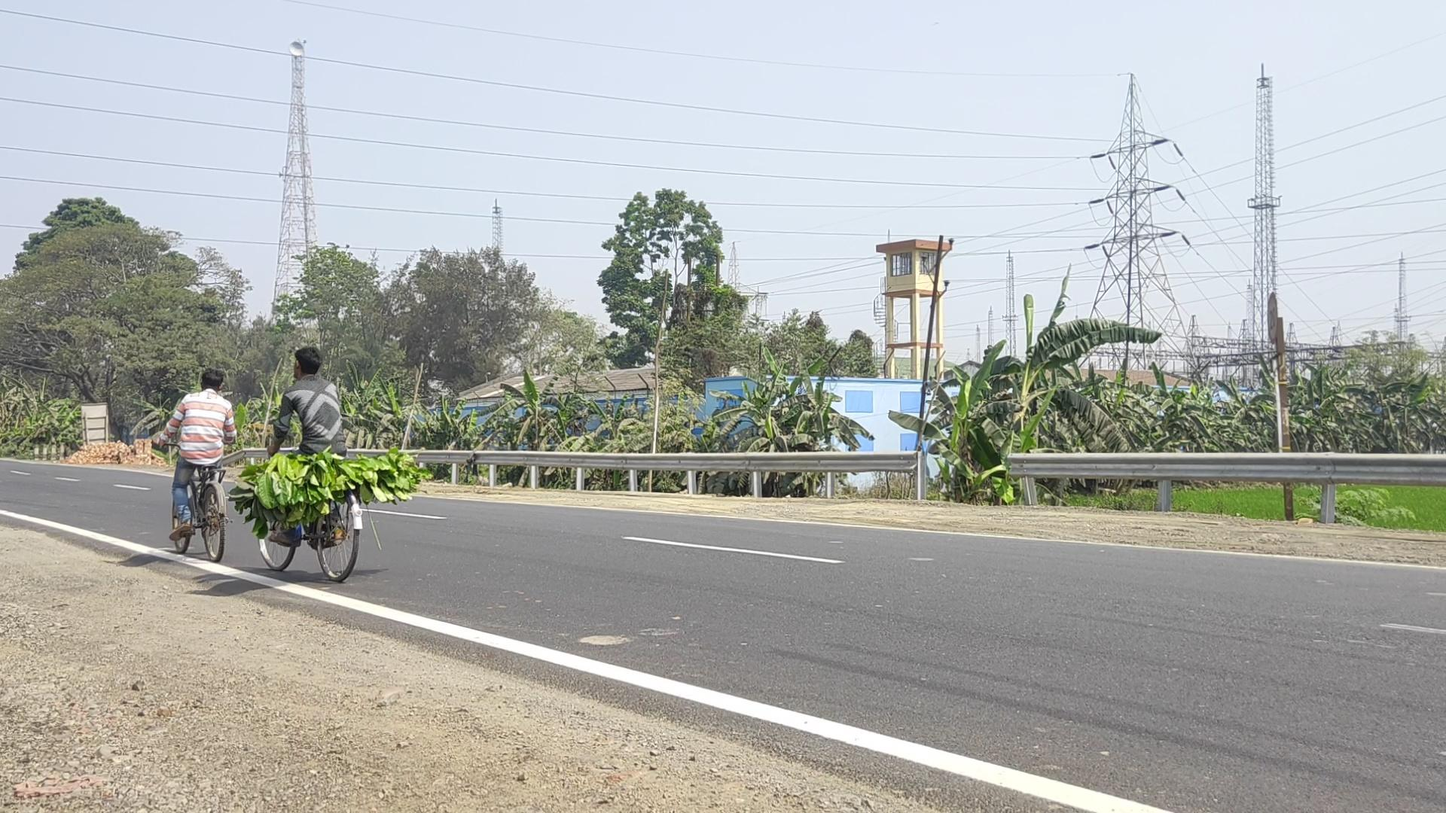bike: (243, 346, 410, 582), (153, 367, 237, 562)
